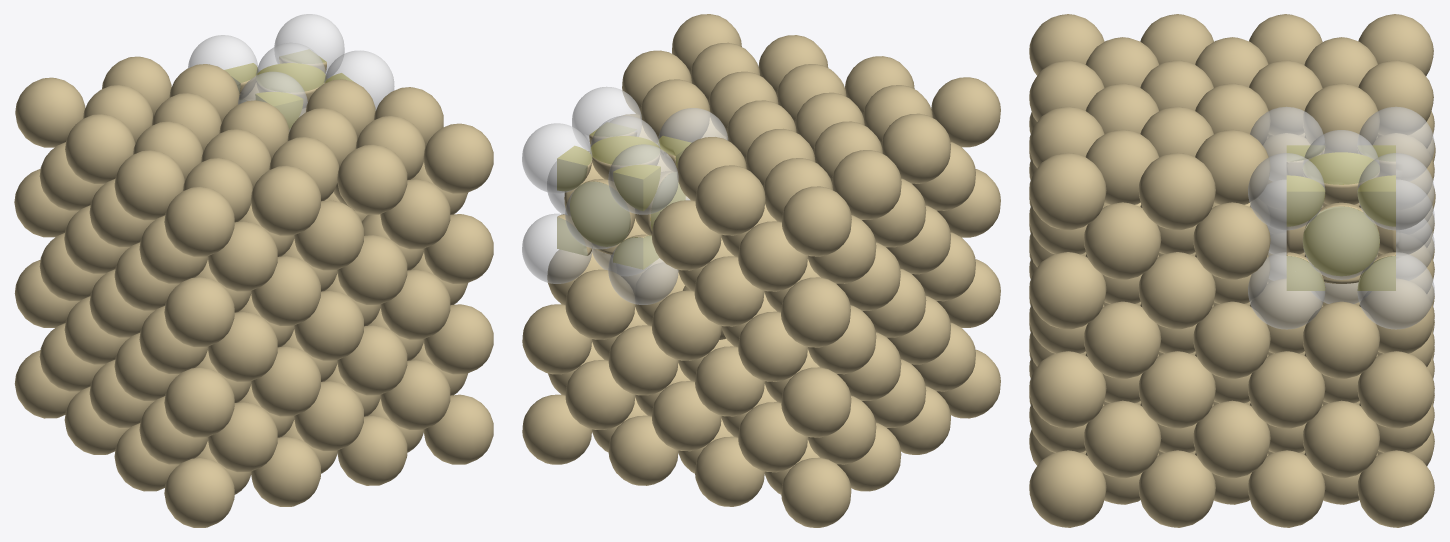
Rendered from cristal_cfc.glb.
3 views of the same model, side by side, from view 1: azimuth 30°, elevation 25°; view 2: azimuth 150°, elevation 25°; view 3: azimuth 270°, elevation 25° (orthographic). The views are drawn at different scales.
Visible parts, largest first — view 1: Sphere.012, Sphere.015, Sphere.053, Sphere.021, Sphere.027, Sphere.017, Sphere.024, Sphere.028, Sphere.037, Sphere.036, Sphere.023, Sphere.007 (+20 smaller); view 2: Sphere.023, Sphere.027, Sphere.022, Sphere.017, Sphere.024, Sphere.053, Sphere.021, Sphere.007, Sphere.012, Sphere.028, Sphere.036, Sphere.037 (+11 smaller); view 3: Sphere.027, Sphere.017, Sphere.021, Sphere.054, Sphere.023, Sphere.007, Sphere.012, Sphere.024, Sphere.036, Sphere.037, Sphere.028, Sphere.022 (+16 smaller).
Part boxes in pixels (x1=…): Sphere.012: x1=164, y1=123, x2=493, y2=291; Sphere.015: x1=164, y1=214, x2=493, y2=381; Sphere.053: x1=39, y1=142, x2=207, y2=464; Sphere.021: x1=114, y1=87, x2=443, y2=491; Sphere.027: x1=188, y1=14, x2=394, y2=131; Sphere.017: x1=188, y1=14, x2=393, y2=130; Sphere.024: x1=14, y1=56, x2=171, y2=237; Sphere.028: x1=64, y1=93, x2=221, y2=273; Sphere.037: x1=183, y1=116, x2=425, y2=222; Sphere.036: x1=133, y1=79, x2=375, y2=181; Sphere.023: x1=14, y1=259, x2=129, y2=364; Sphere.007: x1=224, y1=50, x2=353, y2=131; Sphere.023: x1=522, y1=258, x2=901, y2=437; Sphere.027: x1=522, y1=87, x2=727, y2=304; Sphere.022: x1=522, y1=360, x2=851, y2=527; Sphere.017: x1=522, y1=87, x2=727, y2=304; Sphere.024: x1=652, y1=165, x2=851, y2=347; Sphere.053: x1=808, y1=142, x2=975, y2=464; Sphere.021: x1=622, y1=50, x2=950, y2=454; Sphere.007: x1=557, y1=123, x2=690, y2=269; Sphere.012: x1=672, y1=14, x2=1000, y2=147; Sphere.028: x1=745, y1=128, x2=901, y2=310; Sphere.036: x1=640, y1=79, x2=882, y2=182; Sphere.037: x1=690, y1=42, x2=932, y2=144; Sphere.027: x1=1248, y1=107, x2=1434, y2=329; Sphere.017: x1=1248, y1=107, x2=1434, y2=329; Sphere.021: x1=1138, y1=14, x2=1215, y2=527; Sphere.054: x1=1084, y1=301, x2=1379, y2=478; Sphere.023: x1=1248, y1=213, x2=1434, y2=428; Sphere.007: x1=1286, y1=145, x2=1395, y2=290; Sphere.012: x1=1029, y1=14, x2=1106, y2=254; Sphere.024: x1=1358, y1=14, x2=1435, y2=233; Sphere.036: x1=1195, y1=37, x2=1270, y2=204; Sphere.037: x1=1085, y1=37, x2=1159, y2=204; Sphere.028: x1=1249, y1=14, x2=1322, y2=233; Sphere.022: x1=1357, y1=320, x2=1434, y2=527.
Size of the model in its own units: 2.47 by 2.47 by 2.48.
